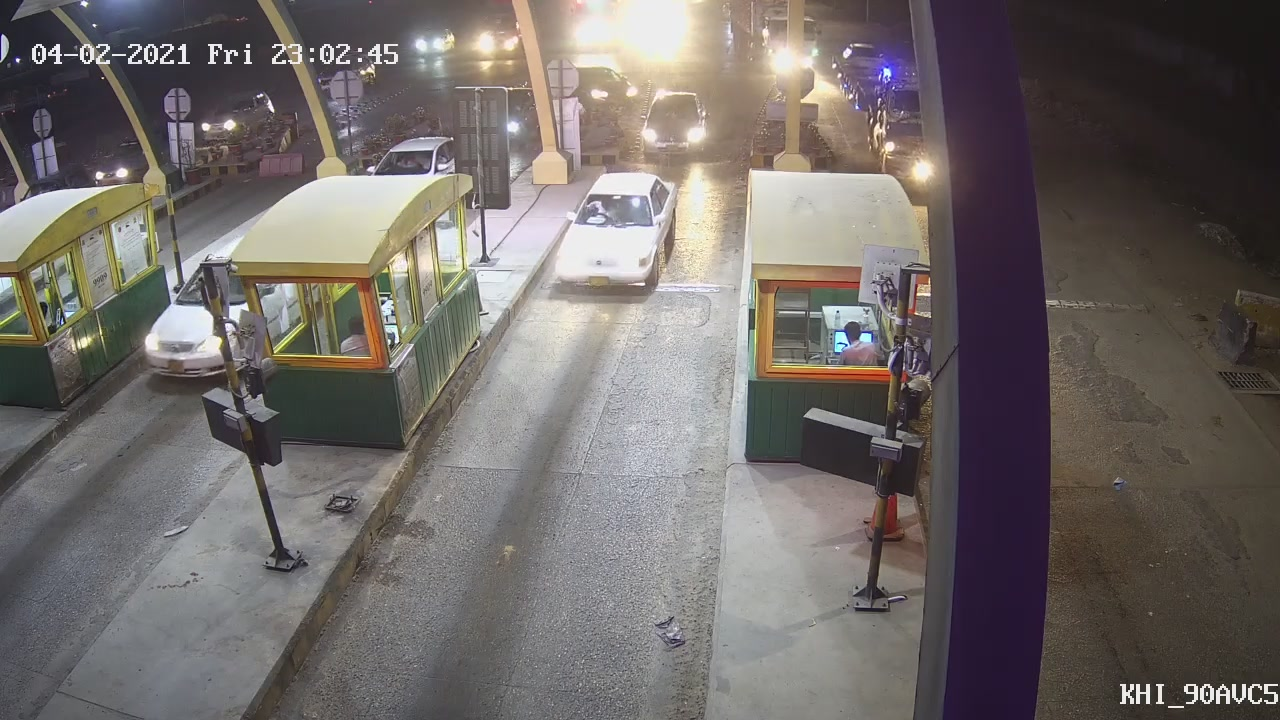F1: (546, 167, 682, 291)
